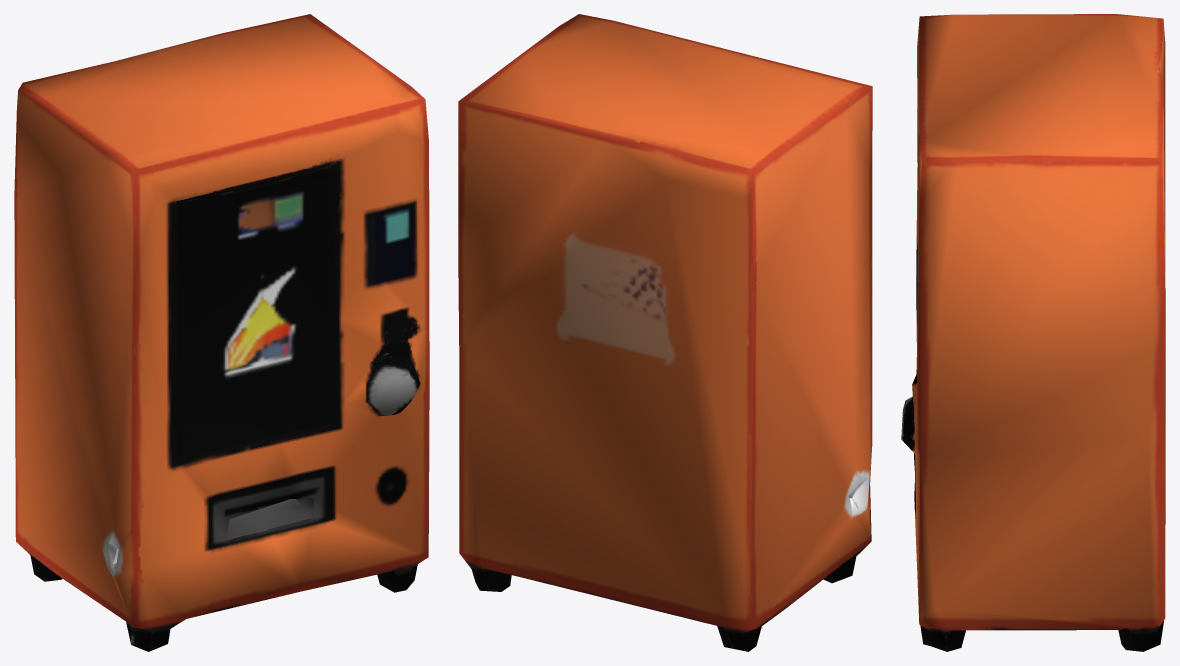
Rendered from snack-vending.glb.
3 views of the same model, side by side, from view 1: azimuth 30°, elevation 25°; view 2: azimuth 150°, elevation 25°; view 3: azimuth 270°, elevation 25° (orthographic).
Parts seen in each view (by area): view 1: geometry_0.001; view 2: geometry_0.001; view 3: geometry_0.001.
Boxes of the visible parts, bbox=[...] form: geometry_0.001: bbox=[14, 14, 429, 651]; geometry_0.001: bbox=[458, 14, 872, 651]; geometry_0.001: bbox=[901, 14, 1165, 651].
Bounding box in the file's own units: 0.6451 × 0.9986 × 0.4792.
Materials: 1 (1 with a texture image).
